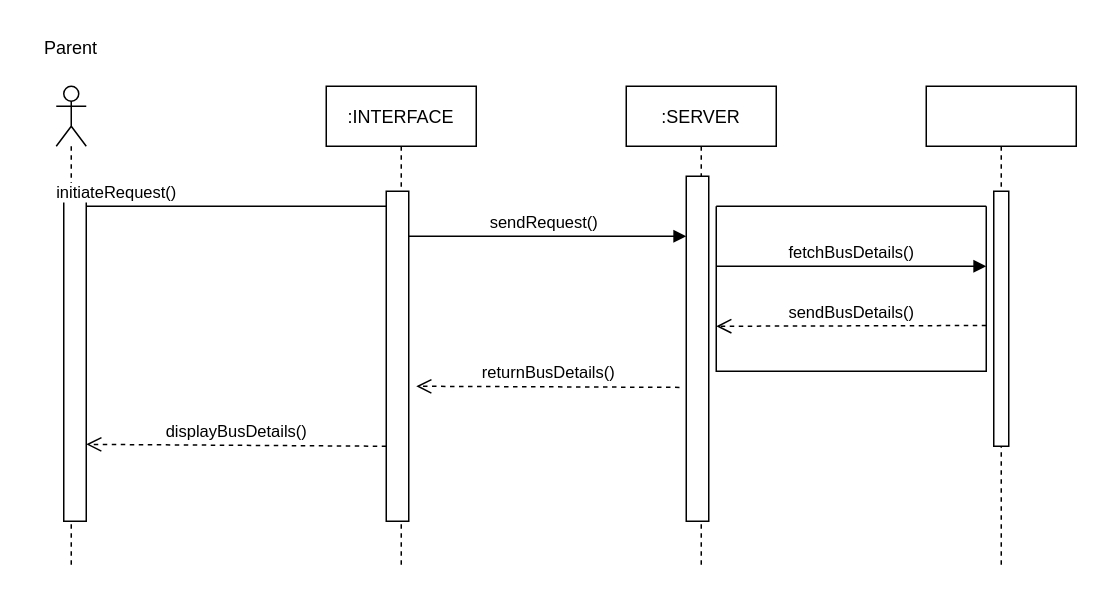
This 1103x593 diagram has some shape labels left out. The shapes that lost their labels are listed below. From the top down, each one's centre as x and y in pixels, then its label:
At point 850,288: "Loop".
At point 1000,325: ":GPS TRACKER".
